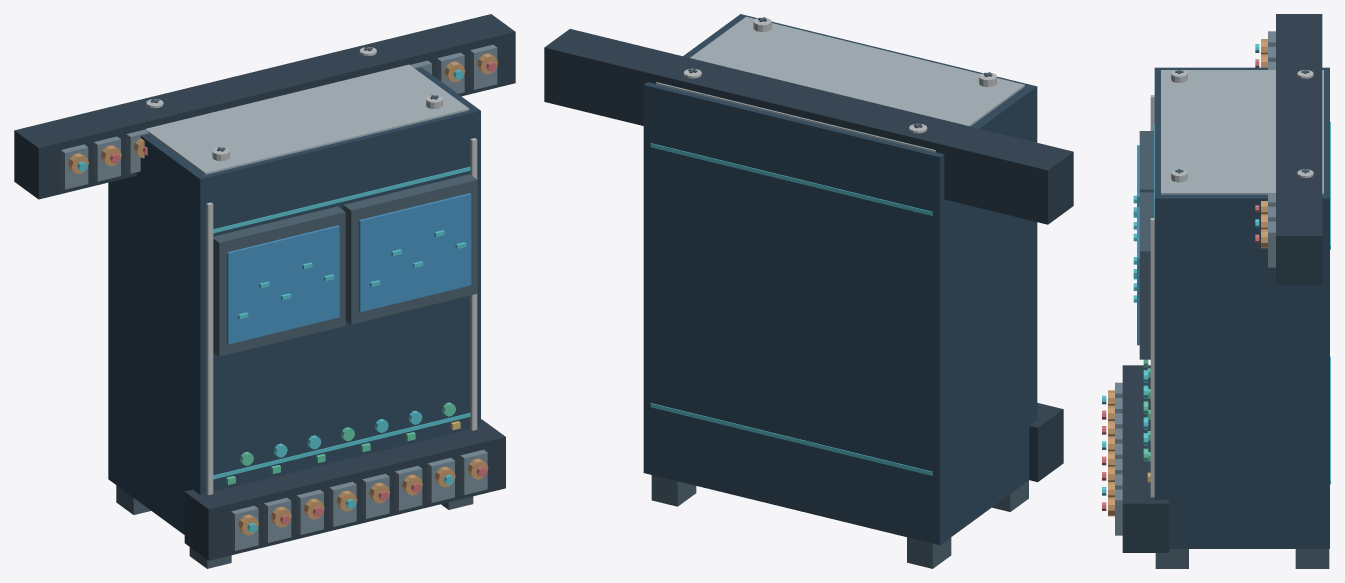
File: 53_L78_DielectricReliabilityController.glb
The picture shows the model from 3 angles, left to right: view 1: azimuth 30°, elevation 25°; view 2: azimuth 150°, elevation 25°; view 3: azimuth 270°, elevation 25°; orthographic projection. The views are drawn at different scales.
Parts seen in each view (by area): view 1: DielectricReliabilityController_Node_0000, DielectricReliabilityController_Node_0007, DielectricReliabilityController_Node_0049, DielectricReliabilityController_Node_0080, DielectricReliabilityController_Node_0025, DielectricReliabilityController_Node_0032, DielectricReliabilityController_Node_0105, DielectricReliabilityController_Node_0031, DielectricReliabilityController_Node_0024, DielectricReliabilityController_Node_0005, DielectricReliabilityController_Node_0006, DielectricReliabilityController_Node_0023 (+13 smaller); view 2: DielectricReliabilityController_Node_0000, DielectricReliabilityController_Node_0080, DielectricReliabilityController_Node_0007, DielectricReliabilityController_Node_0105, DielectricReliabilityController_Node_0049, DielectricReliabilityController_Node_0020, DielectricReliabilityController_Node_0022, DielectricReliabilityController_Node_0045, DielectricReliabilityController_Node_0047; view 3: DielectricReliabilityController_Node_0000, DielectricReliabilityController_Node_0007, DielectricReliabilityController_Node_0105, DielectricReliabilityController_Node_0080, DielectricReliabilityController_Node_0049, DielectricReliabilityController_Node_0031, DielectricReliabilityController_Node_0006, DielectricReliabilityController_Node_0024, DielectricReliabilityController_Node_0047, DielectricReliabilityController_Node_0048, DielectricReliabilityController_Node_0032, DielectricReliabilityController_Node_0071 (+1 smaller).
Part boxes in pixels (x1,y1,x2,y2): DielectricReliabilityController_Node_0000: (108, 67, 480, 534); DielectricReliabilityController_Node_0007: (145, 64, 469, 174); DielectricReliabilityController_Node_0049: (184, 419, 505, 560); DielectricReliabilityController_Node_0080: (14, 58, 335, 199); DielectricReliabilityController_Node_0025: (227, 225, 339, 344); DielectricReliabilityController_Node_0032: (359, 193, 471, 312); DielectricReliabilityController_Node_0105: (194, 14, 515, 110); DielectricReliabilityController_Node_0031: (343, 174, 477, 324); DielectricReliabilityController_Node_0024: (213, 206, 345, 356); DielectricReliabilityController_Node_0005: (206, 202, 213, 495); DielectricReliabilityController_Node_0006: (470, 138, 477, 430); DielectricReliabilityController_Node_0023: (213, 167, 470, 233); DielectricReliabilityController_Node_0000: (643, 14, 1037, 545); DielectricReliabilityController_Node_0080: (734, 75, 1073, 224); DielectricReliabilityController_Node_0007: (656, 16, 1024, 152); DielectricReliabilityController_Node_0105: (544, 29, 883, 130); DielectricReliabilityController_Node_0049: (1029, 403, 1063, 482); DielectricReliabilityController_Node_0020: (650, 403, 932, 475); DielectricReliabilityController_Node_0022: (650, 143, 932, 215); DielectricReliabilityController_Node_0045: (907, 537, 951, 568); DielectricReliabilityController_Node_0047: (651, 475, 696, 506); DielectricReliabilityController_Node_0000: (1154, 67, 1329, 548); DielectricReliabilityController_Node_0007: (1161, 70, 1323, 194); DielectricReliabilityController_Node_0105: (1276, 97, 1322, 284); DielectricReliabilityController_Node_0080: (1276, 14, 1322, 152); DielectricReliabilityController_Node_0049: (1122, 365, 1168, 552); DielectricReliabilityController_Node_0031: (1139, 192, 1153, 359); DielectricReliabilityController_Node_0006: (1150, 218, 1154, 497); DielectricReliabilityController_Node_0024: (1139, 131, 1153, 192); DielectricReliabilityController_Node_0047: (1295, 549, 1329, 568); DielectricReliabilityController_Node_0048: (1155, 549, 1188, 568); DielectricReliabilityController_Node_0032: (1137, 206, 1139, 345); DielectricReliabilityController_Node_0071: (1115, 489, 1122, 535).
Bounding box in the file's own units: 2.04 × 1.65 × 0.8872.
